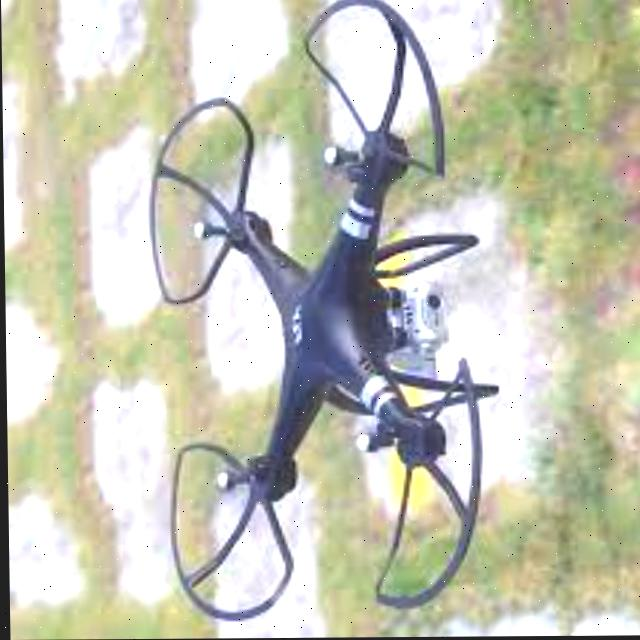drone: (130, 0, 514, 625)
